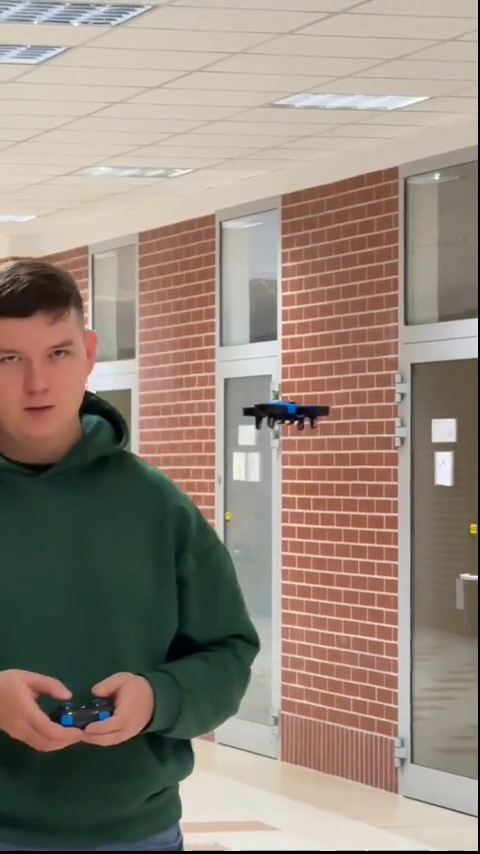drone: (239, 400, 328, 428)
no vest: (3, 262, 253, 845)
